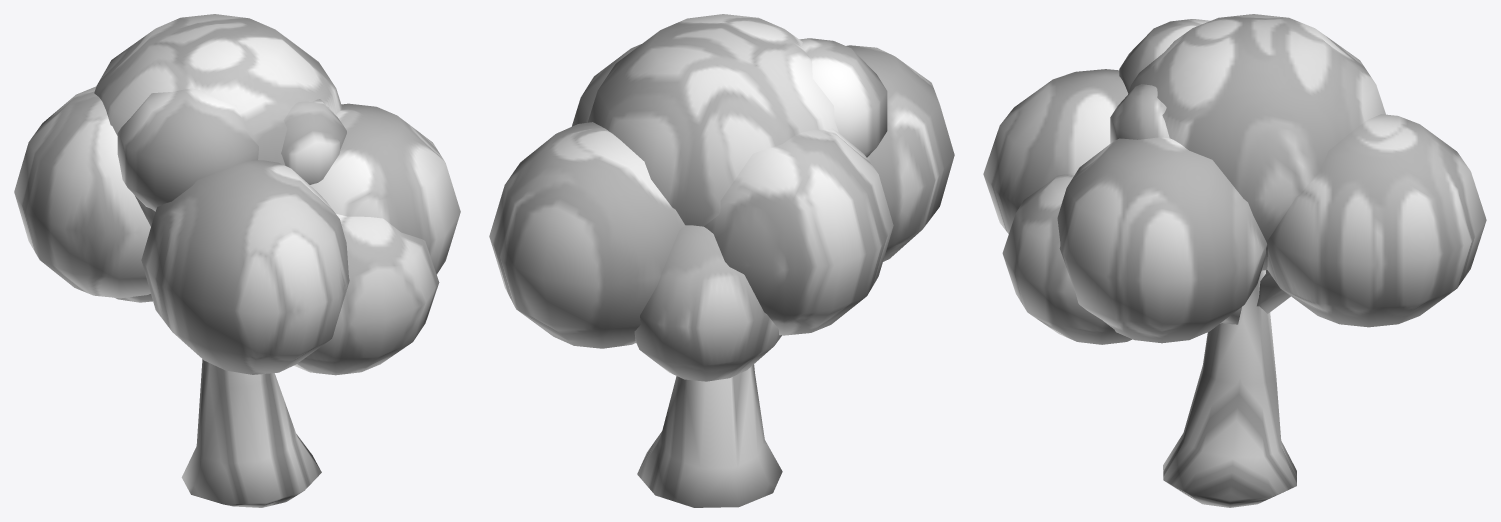
File: tree_oak_1.obj
The picture shows the model from 3 angles, left to right: view 1: azimuth 30°, elevation 25°; view 2: azimuth 150°, elevation 25°; view 3: azimuth 270°, elevation 25°; orthographic projection. The views are drawn at different scales.
Visible parts, largest first — view 1: Rounded_crown_lobe_3, Rounded_crown_lobe_6, Rounded_crown_lobe_7, Rounded_trunk, Rounded_crown_lobe_4, Rounded_crown_lobe_1, Rounded_crown_lobe_8, Rounded_crown_lobe_9; view 2: Rounded_crown_lobe_7, Rounded_crown_lobe_5, Rounded_crown_lobe_6, Rounded_crown_lobe_2, Rounded_trunk, Rounded_crown_lobe_3, Rounded_crown_lobe_8, Rounded_crown_lobe_4; view 3: Rounded_crown_lobe_5, Rounded_crown_lobe_4, Rounded_crown_lobe_7, Rounded_trunk, Rounded_crown_lobe_3, Rounded_crown_lobe_1, Rounded_crown_lobe_9, Rounded_crown_lobe_8, Support_branch_3.
Boxes of the visible parts, <box> form: Rounded_crown_lobe_3: <box>141,160,349,374</box>; Rounded_crown_lobe_6: <box>14,86,150,298</box>; Rounded_crown_lobe_7: <box>94,14,342,226</box>; Rounded_trunk: <box>181,359,321,507</box>; Rounded_crown_lobe_4: <box>310,103,460,274</box>; Rounded_crown_lobe_1: <box>294,214,439,375</box>; Rounded_crown_lobe_8: <box>117,88,258,211</box>; Rounded_crown_lobe_9: <box>281,99,346,184</box>; Rounded_crown_lobe_7: <box>587,14,838,226</box>; Rounded_crown_lobe_5: <box>489,122,684,348</box>; Rounded_crown_lobe_6: <box>704,128,893,335</box>; Rounded_crown_lobe_2: <box>634,225,781,381</box>; Rounded_trunk: <box>637,364,782,507</box>; Rounded_crown_lobe_3: <box>846,45,954,261</box>; Rounded_crown_lobe_8: <box>799,38,887,157</box>; Rounded_crown_lobe_4: <box>572,44,641,126</box>; Rounded_crown_lobe_5: <box>1266,114,1486,327</box>; Rounded_crown_lobe_4: <box>1057,137,1266,343</box>; Rounded_crown_lobe_7: <box>1128,14,1385,270</box>; Rounded_trunk: <box>1163,270,1296,507</box>; Rounded_crown_lobe_3: <box>983,69,1128,233</box>; Rounded_crown_lobe_1: <box>1002,172,1132,344</box>; Rounded_crown_lobe_9: <box>1110,84,1169,143</box>; Rounded_crown_lobe_8: <box>1119,19,1210,92</box>; Support_branch_3: <box>1257,270,1290,313</box>.
Bounding box in the file's own units: 0.8444 × 1.04 × 1.05.
